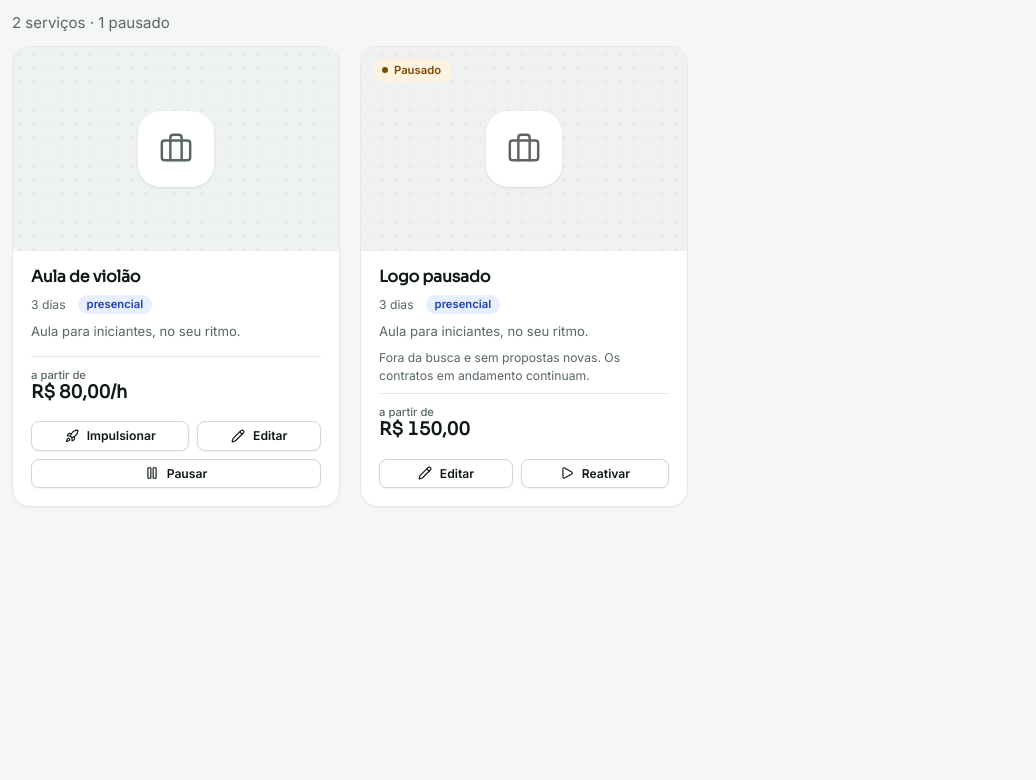
Test: MyServices: pausar e reativar (RF-030) › enquanto salva, só o botão daquele serviço trava em "Salvando…"
Click the button "Pausar" at (176, 473), box [31,459,321,488]
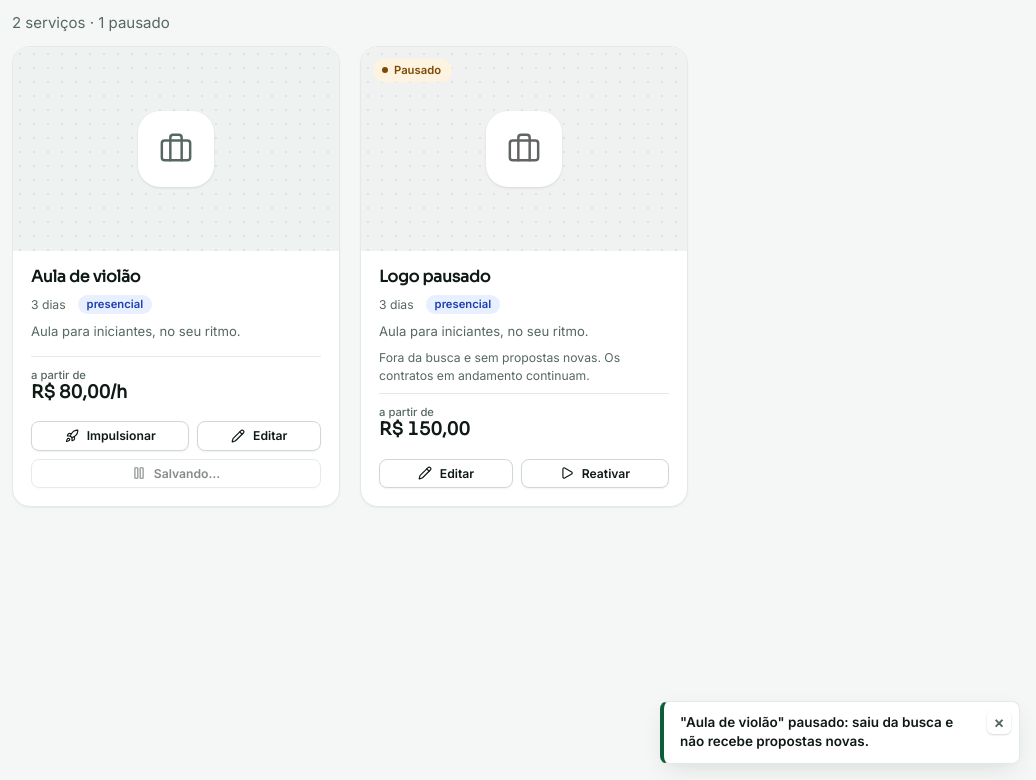
Expected: the button "Reativar" is enabled, [521,459,669,488]
Now the button "Salvando…" is disabled, box [31,459,321,488]
Now the text "\"Aula de violão\" pausado: saiu da busca e não recebe propostas novas." is shown, box [680,713,979,752]
